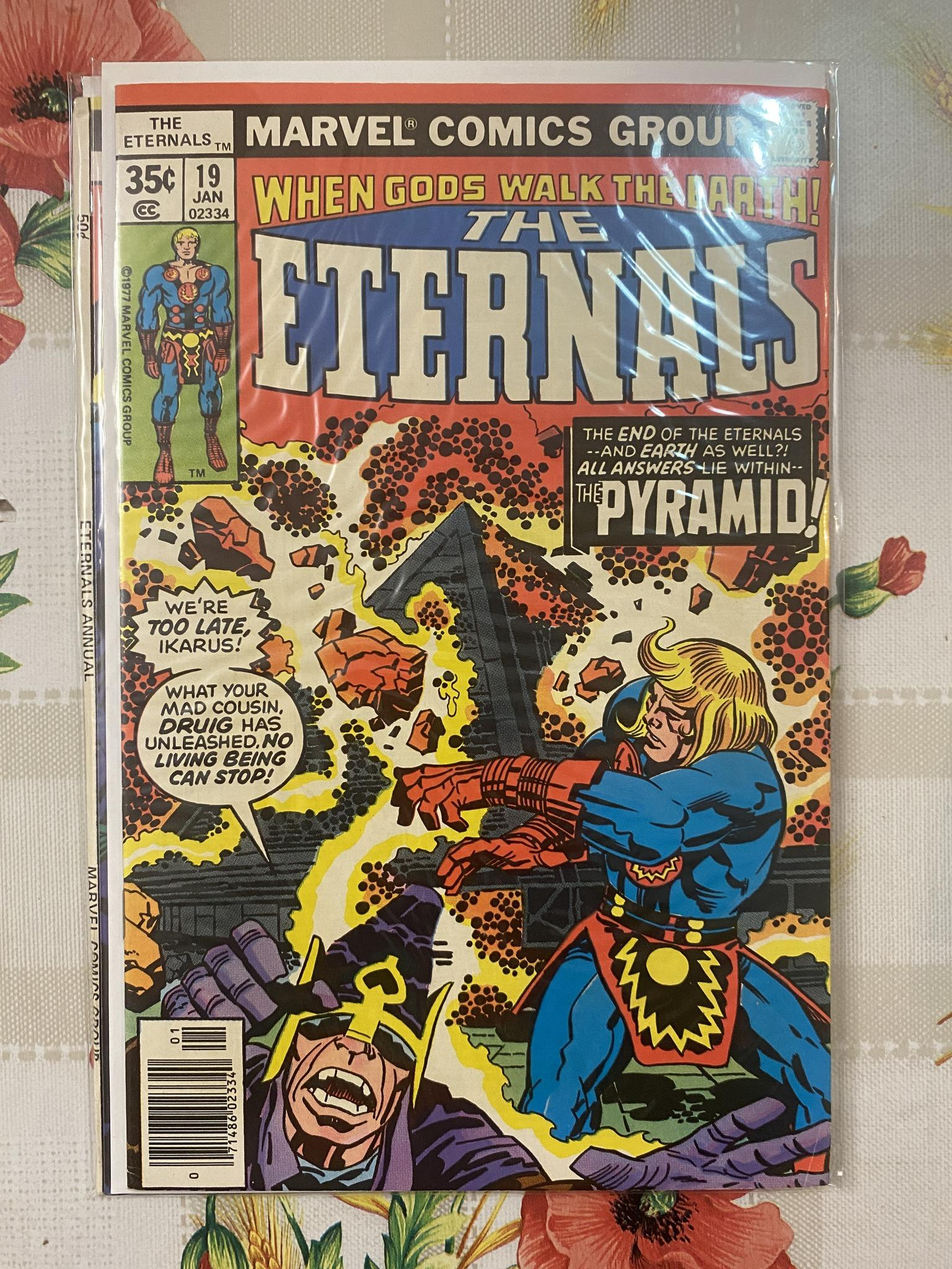comic: (94, 62, 832, 1191)
